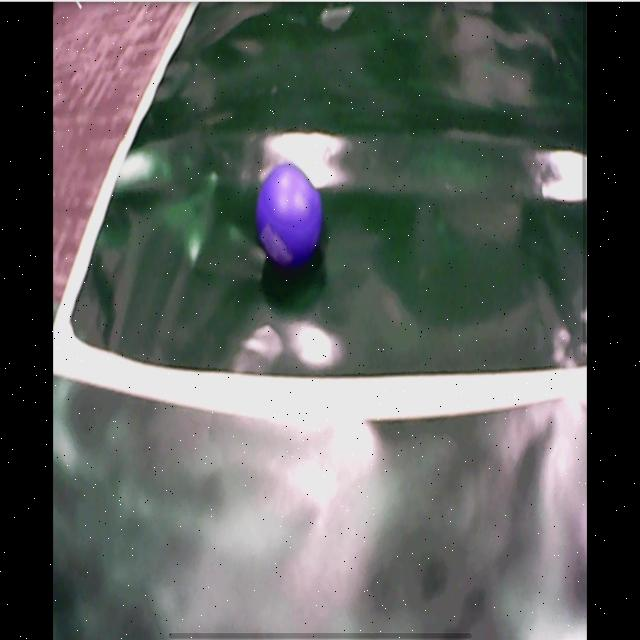ball: (258, 163, 323, 262)
